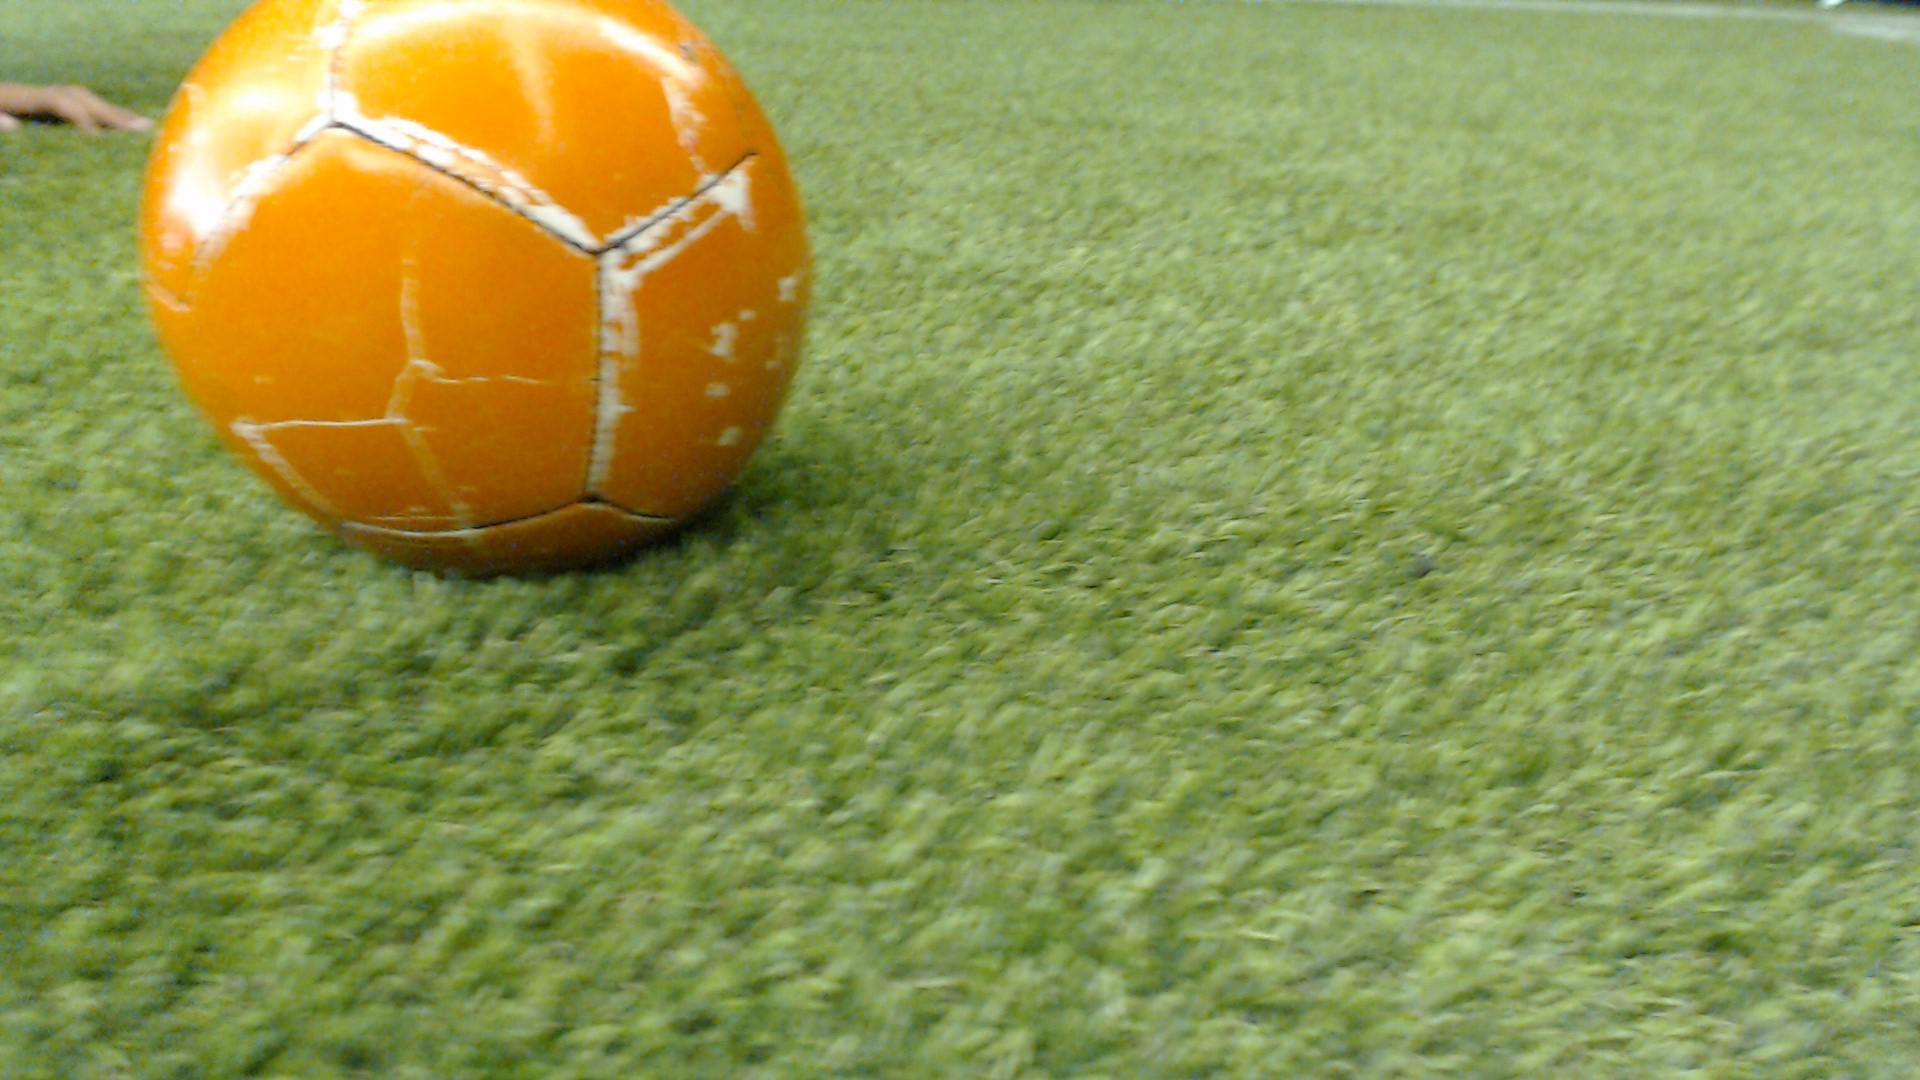bola: (121, 0, 901, 622)
